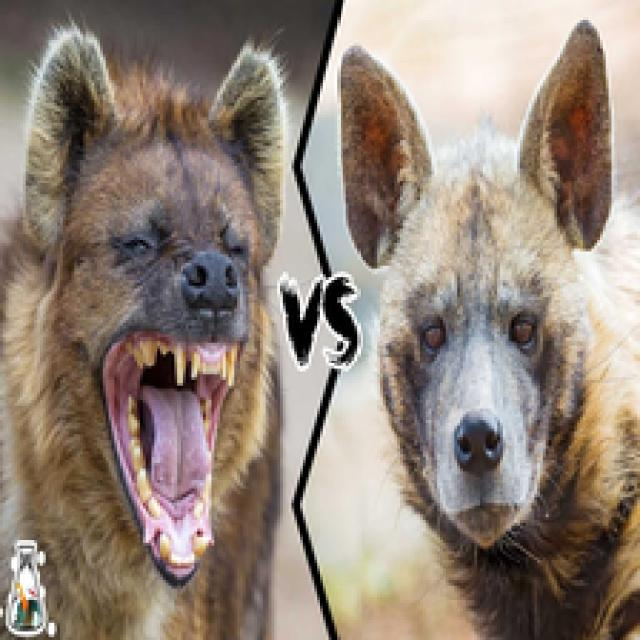hyena: (339, 27, 640, 632)
wolf: (17, 13, 306, 640)
